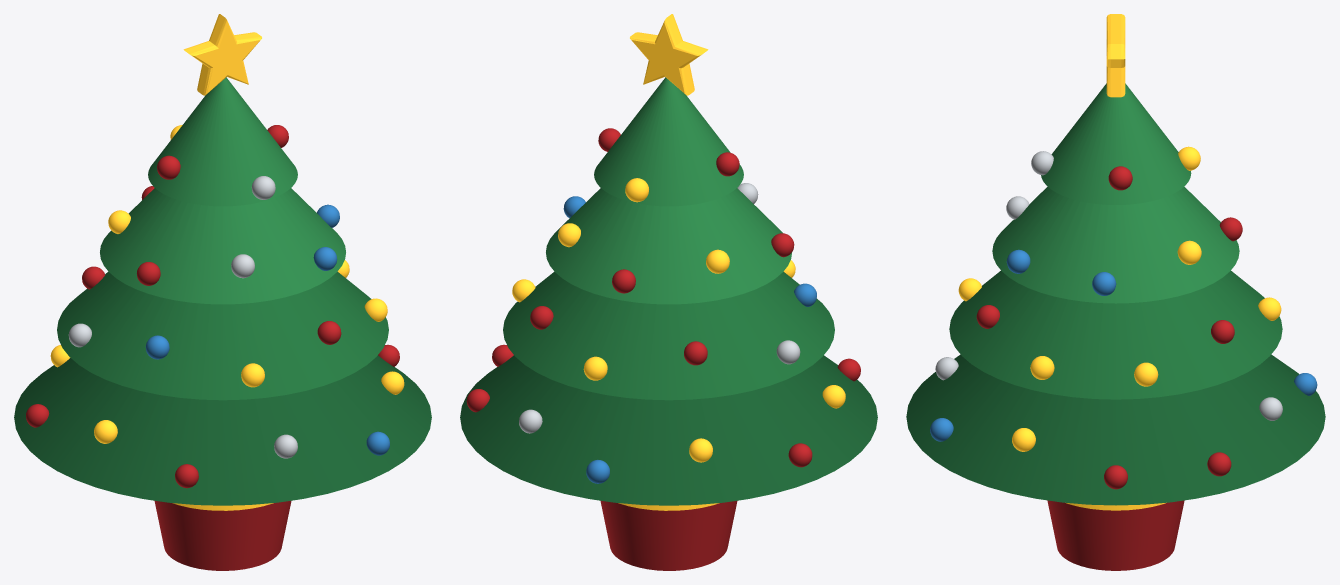
File: tree.glb
3 renders of one model, left to right at view 1: azimuth 30°, elevation 25°; view 2: azimuth 150°, elevation 25°; view 3: azimuth 270°, elevation 25°, orthographic.
Parts seen in each view (by area): view 1: tree; view 2: tree; view 3: tree.
Part boxes in pixels (box(x1,y1,x2,y2)): tree: box(14, 14, 431, 570); tree: box(460, 14, 877, 570); tree: box(906, 14, 1325, 570).
Size of the model in its own units: 1.56 by 2.18 by 1.56.
